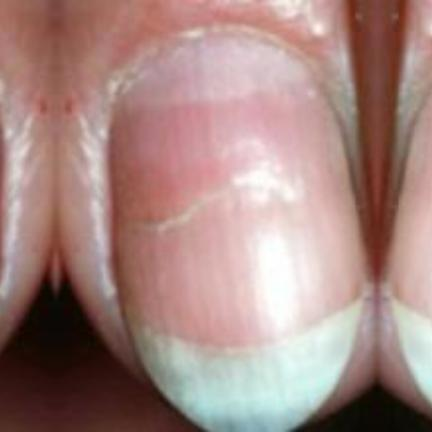Nail: (107, 30, 370, 430), (383, 89, 432, 406), (0, 139, 3, 214)
